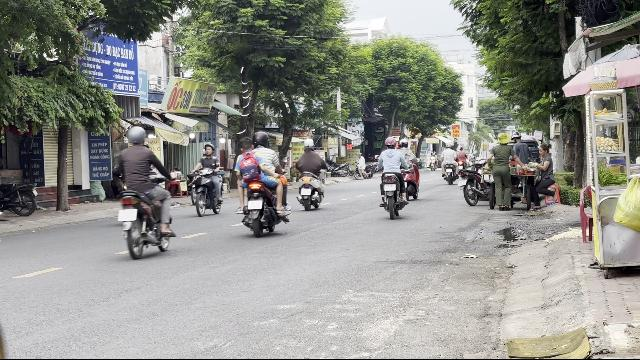helmet: (126, 126, 146, 146), (252, 131, 268, 148), (202, 143, 212, 157), (511, 130, 521, 142)
licenseplate: (119, 209, 138, 221), (248, 200, 262, 209)
motorcyclist: (113, 124, 175, 258), (233, 130, 290, 236), (188, 142, 224, 216)
nohelmet: (238, 137, 252, 152)
